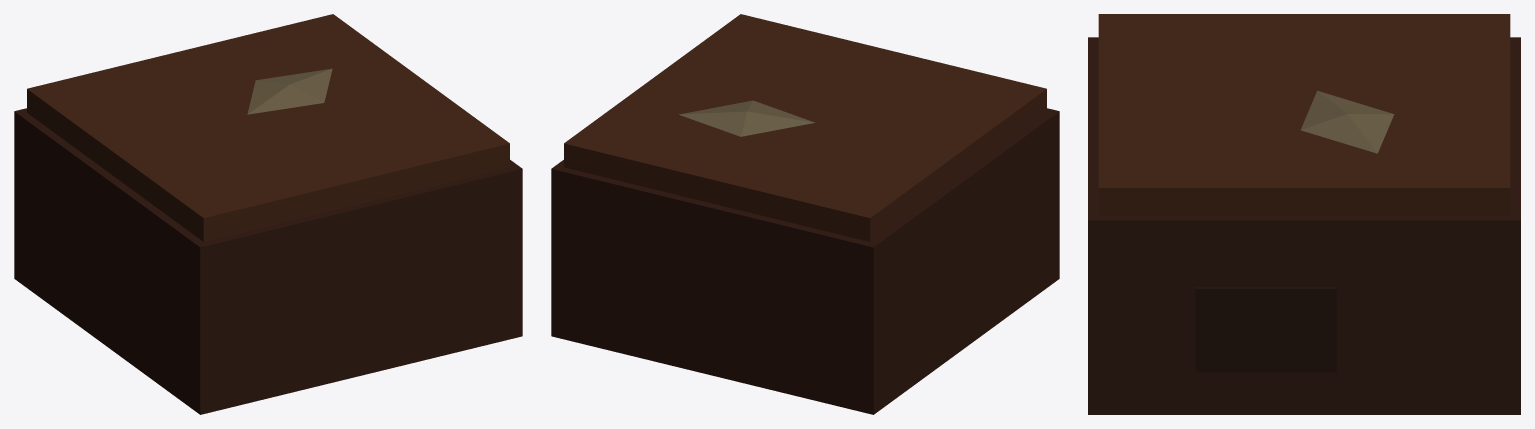
Rendered from pile-mud-1.obj.
3 renders of one model, left to right at view 1: azimuth 30°, elevation 25°; view 2: azimuth 150°, elevation 25°; view 3: azimuth 270°, elevation 25°, orthographic. The views are drawn at different scales.
Visible parts, largest first — view 1: pile-mud-1; view 2: pile-mud-1; view 3: pile-mud-1.
Boxes of the visible parts, x1,y1,x2,y2 form: pile-mud-1: [14, 14, 522, 414]; pile-mud-1: [551, 14, 1059, 414]; pile-mud-1: [1088, 14, 1520, 414].
Size of the model in its own units: 0.285 by 0.167 by 0.282.
1 material, 1 textured.
